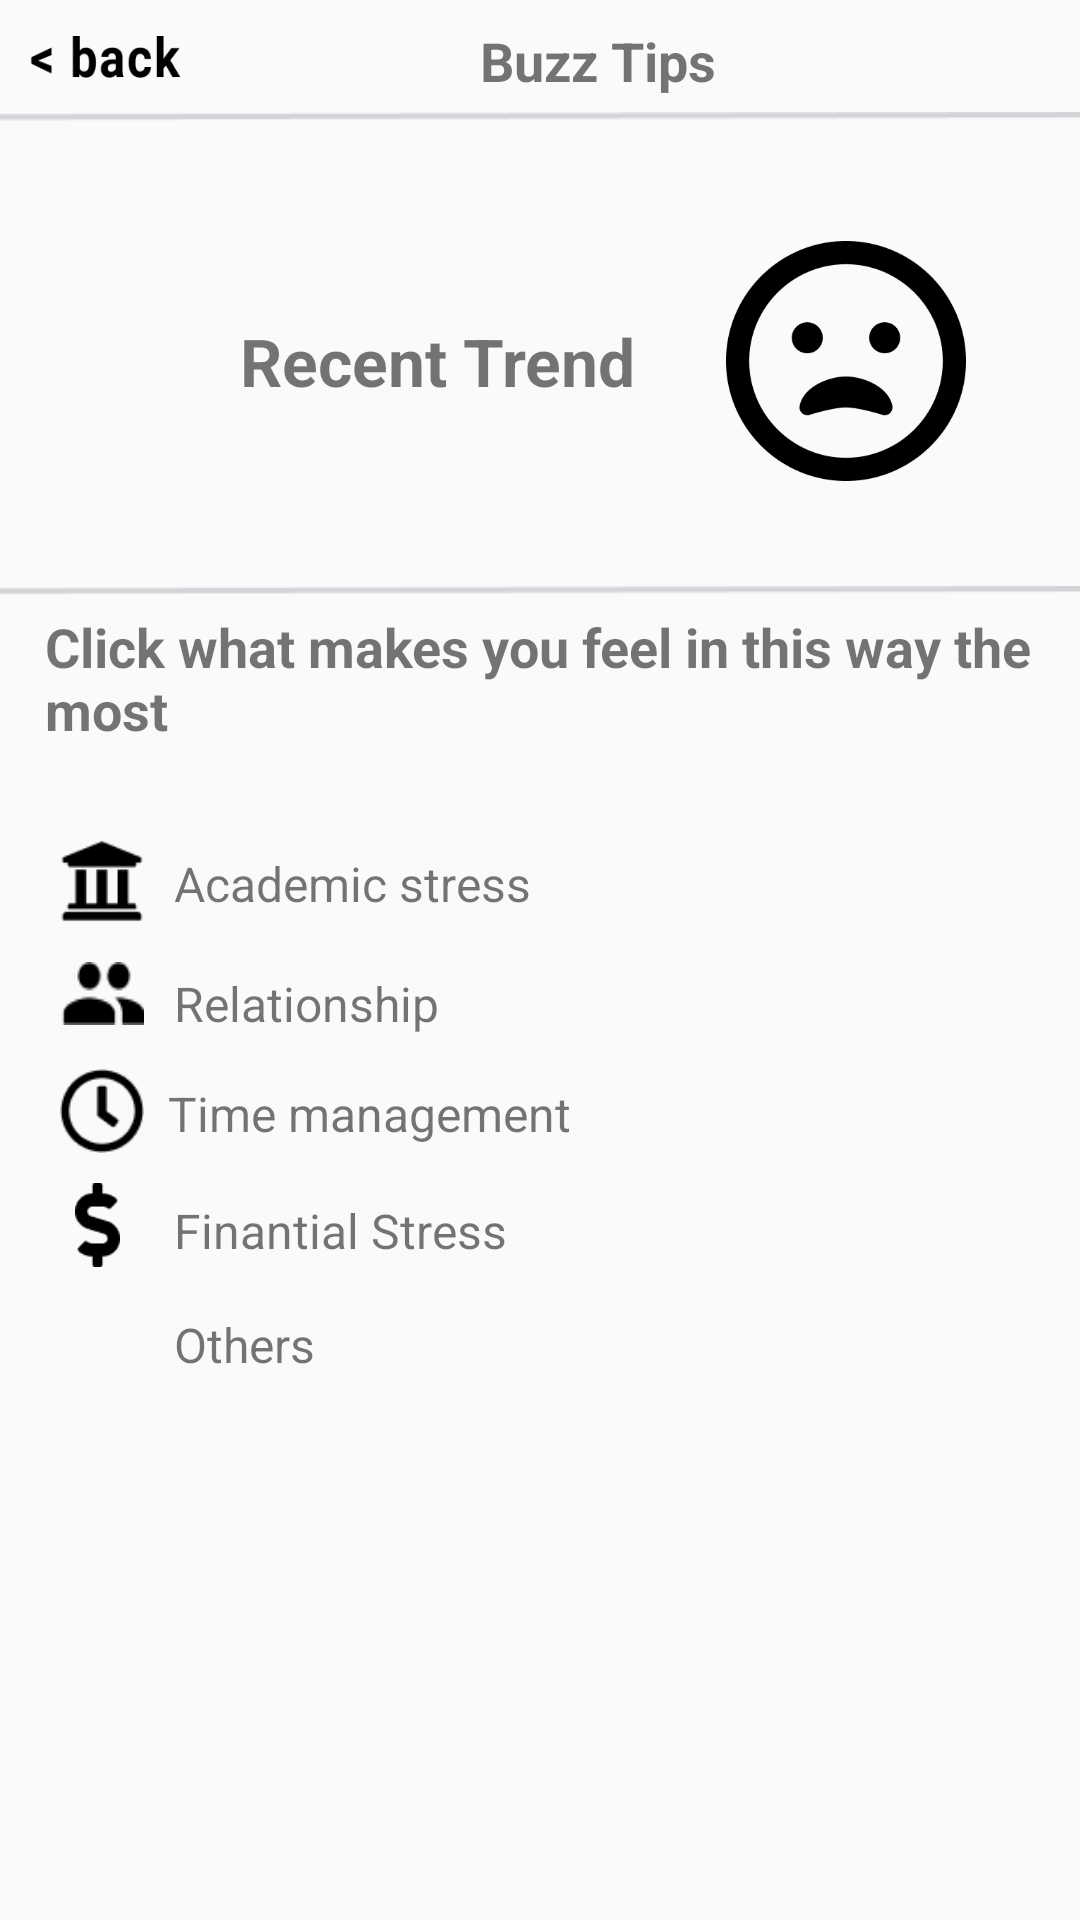

Icons on this 1080x1920 Android screen, each with the point to tap as [x,y]:
clock: [102,1111]
dollar sign: [97,1225]
two people: [103,993]
unhappy: [846,361]
university: [102,881]
